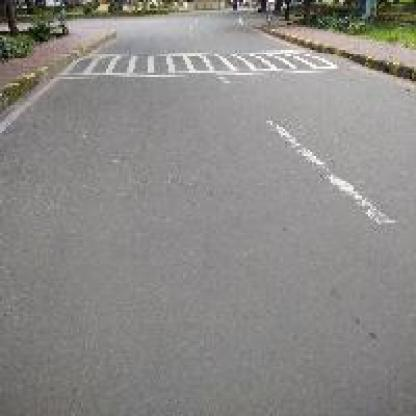Speed Bump: (54, 42, 343, 83)
